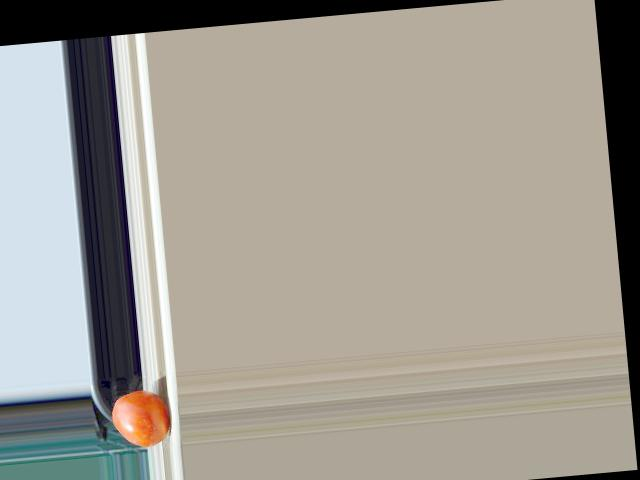tomato: (109, 388, 170, 449)
